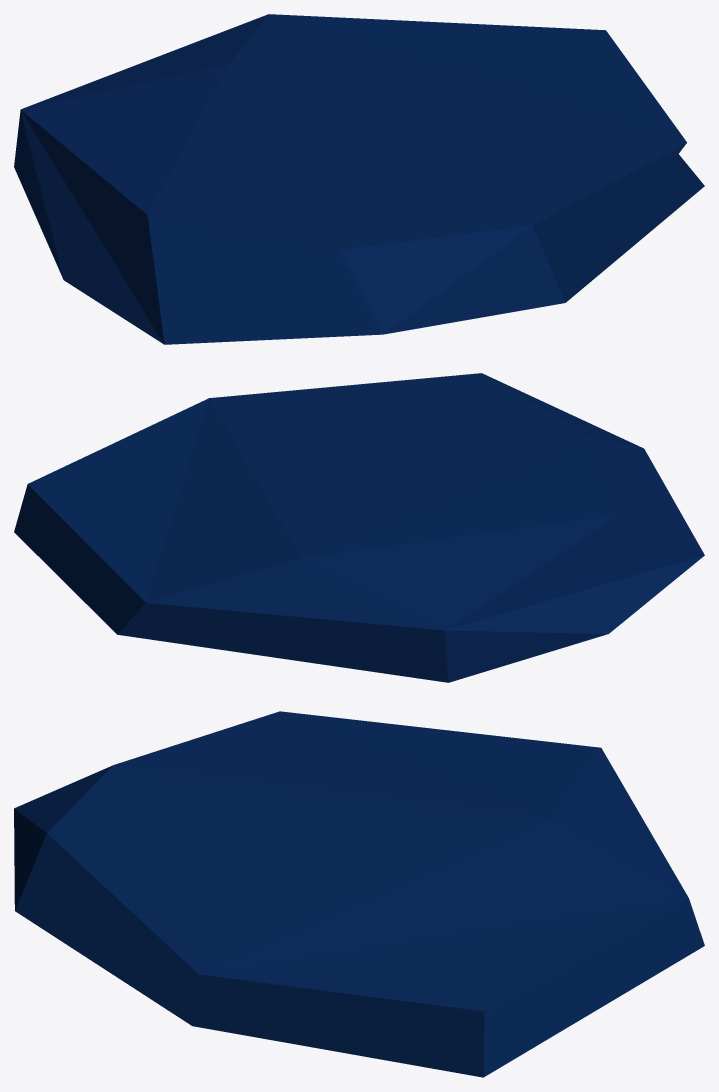
File: Cave_stone_9.glb
3 views of the same model, one above another, from view 1: azimuth 30°, elevation 25°; view 2: azimuth 150°, elevation 25°; view 3: azimuth 270°, elevation 25° (orthographic). The views are drawn at different scales.
Visible parts, largest first — view 1: Cave_stone_09; view 2: Cave_stone_09; view 3: Cave_stone_09.
Boxes of the visible parts, x1,y1,x2,y2 form: Cave_stone_09: (14,14,704,344); Cave_stone_09: (14,373,704,682); Cave_stone_09: (14,711,704,1077).
Bounding box in the file's own units: 1.23 × 0.1969 × 1.19.
